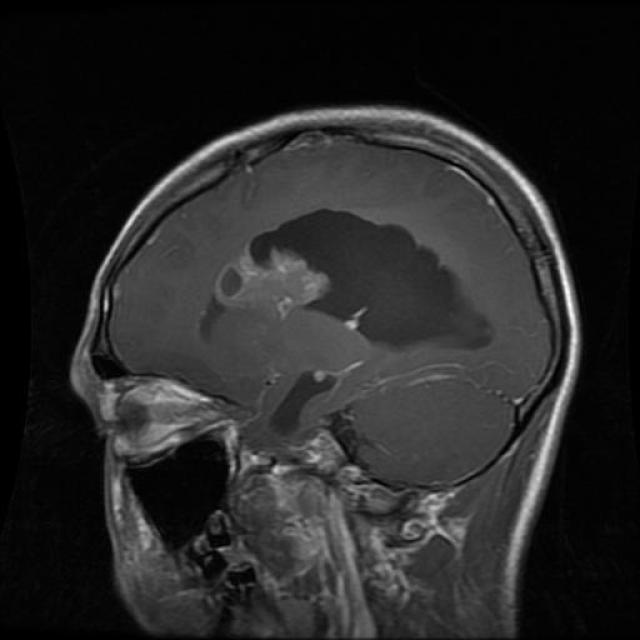glioma: (214, 209, 494, 355)
